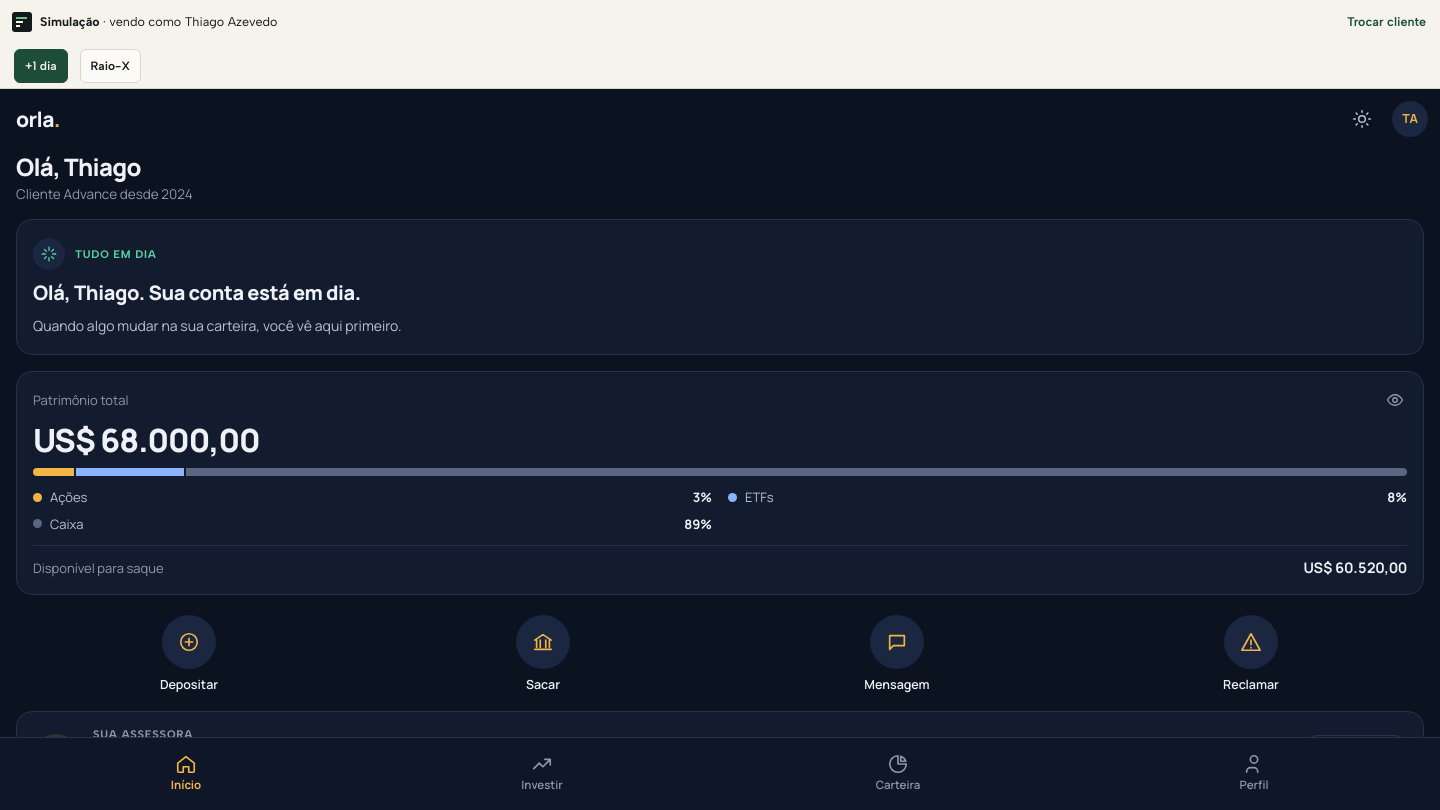
Raio-X SDUI toggle in the simulation strip › keeps working in memory when storage is unavailable
The image size is (1440, 810).
Click the button "Raio-X".
click(110, 66)  # box [78,44,143,88]
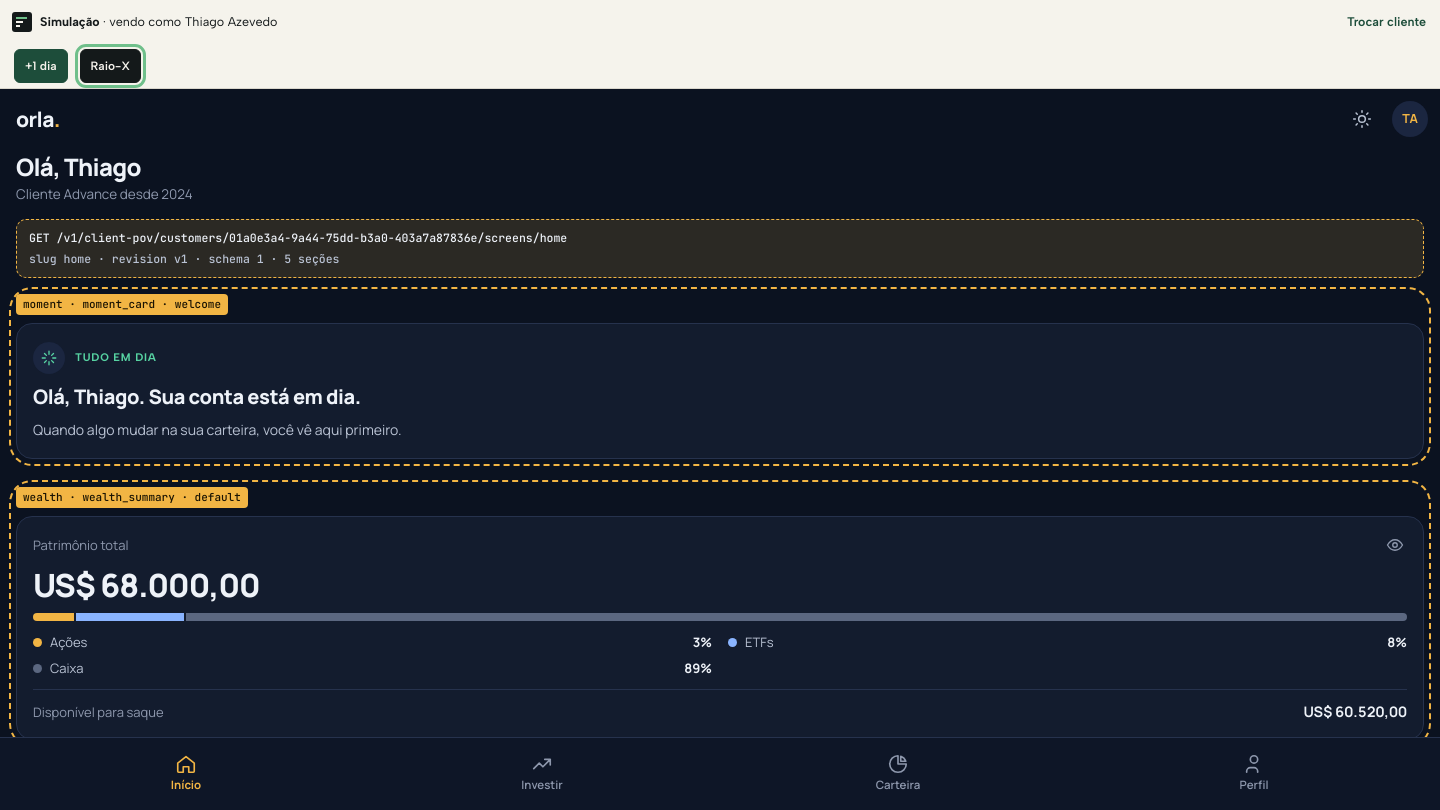
Expected: the element named "Raio-X SDUI" is shown, [16,220,1424,278]
